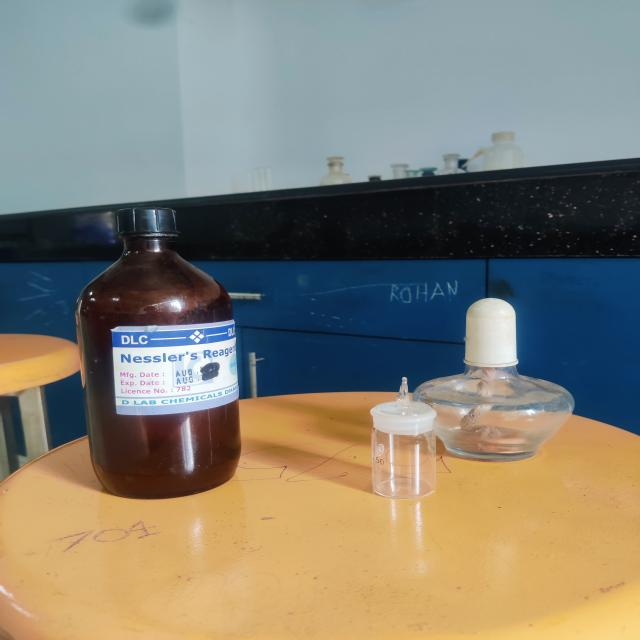Nessler_Reagent_Bottle: (41, 183, 287, 514)
Spirit_Lamp: (414, 282, 598, 464)
Weighing_Bottle: (350, 372, 451, 514)
